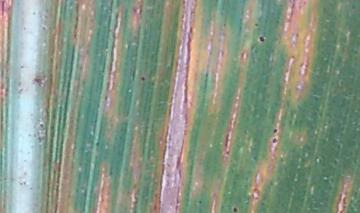tarspot: (258, 33, 266, 44), (351, 3, 358, 13), (273, 127, 280, 135), (232, 205, 239, 213), (140, 74, 147, 82), (197, 199, 204, 205), (271, 138, 279, 143), (94, 142, 101, 147), (253, 21, 260, 26), (354, 49, 358, 57), (105, 96, 109, 103)
